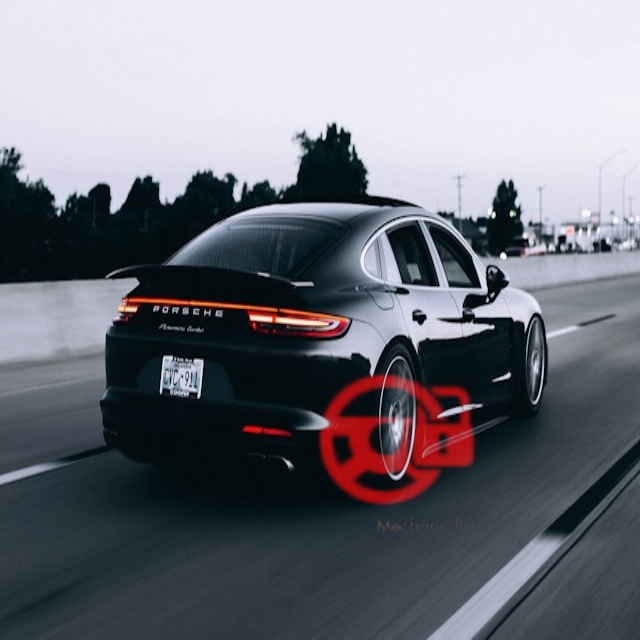symbol: (296, 339, 500, 543)
